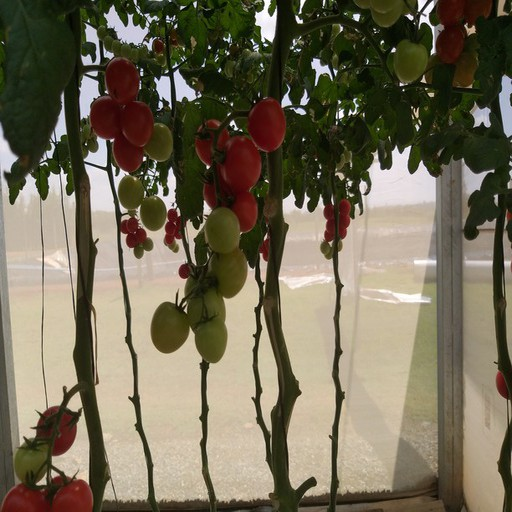green tomato bunch: (349, 1, 427, 85)
mixed tomato bunch: (151, 98, 287, 364), (425, 1, 495, 86), (117, 218, 154, 257), (162, 208, 187, 252)
red tomato bunch: (3, 403, 93, 512), (89, 60, 155, 173), (322, 202, 351, 253)
